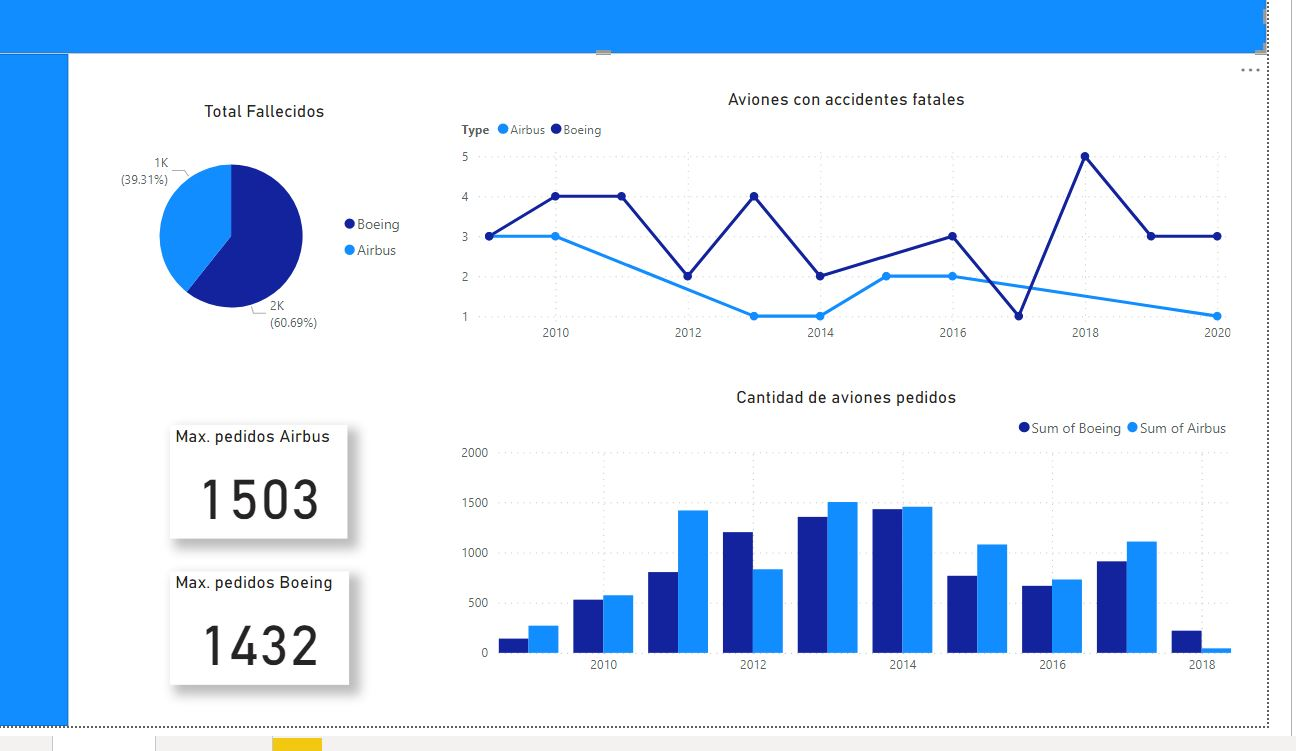

The dashboard page shown, as its layout file describes it:
{"tool":"powerbi","page":{"name":"Análisis","canvas":[1280,720],"ordinal":1},"visuals":[{"type":"clusteredColumnChart","title":"Cantidad de aviones pedidos","fields":{"Y":["Sum(public pedidos.Boeing)","Sum(public pedidos.Airbus)"],"Category":["public pedidos.Anio"]},"box":[498.5,391.4,752.6,288.4],"z":0},{"type":"card","title":"Max. pedidos Airbus","fields":{"Values":["DimCalendar.Airbus max per Anio"]},"box":[221.9,429.3,171.3,109.7],"z":1000},{"type":"lineChart","title":"Aviones con accidentes fatales","fields":{"Category":["DimCalendar.Date.Variation.Date Hierarchy.Year"],"Series":["public accident.Type"],"Y":["Sum(public accident.Cant_accidente)"]},"box":[498.1,104.9,752.6,254.5],"z":2000},{"type":"shape","box":[0,0,1279.6,71.2],"z":3000},{"type":"shape","box":[0,71.2,124.2,648.8],"z":4000},{"type":"card","title":"Max. pedidos Boeing","fields":{"Values":["DimCalendar.Boeing max per Anio"]},"box":[221.9,570.5,172.5,109.7],"z":5000},{"type":"pieChart","title":"Total Fallecidos","fields":{"Category":["public accident.Type"],"Y":["Sum(public accident.total_fatalities)"]},"box":[167.6,115.8,290.7,243.6],"z":6000}]}

Visuals, with their boxes on the page's 1280x720 design canvas (x1, y1, x2, y2). These are canvas units, not pixel positions in the 1296x751 screenshot, which may show the page scaled, cropped or inside an application window:
"Cantidad de aviones pedidos" clusteredColumnChart: [left=498, top=391, right=1251, bottom=680]
"Max. pedidos Airbus" card: [left=222, top=429, right=393, bottom=539]
"Aviones con accidentes fatales" lineChart: [left=498, top=105, right=1251, bottom=359]
shape: [left=0, top=0, right=1280, bottom=71]
shape: [left=0, top=71, right=124, bottom=720]
"Max. pedidos Boeing" card: [left=222, top=570, right=394, bottom=680]
"Total Fallecidos" pieChart: [left=168, top=116, right=458, bottom=359]
